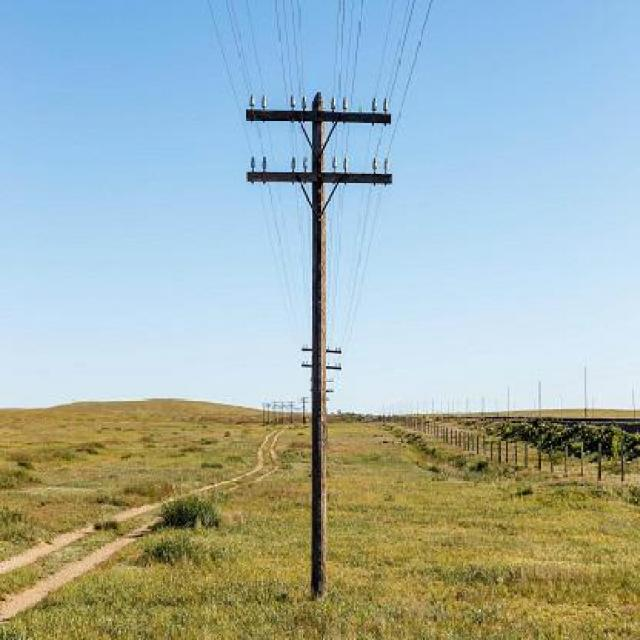pole: (242, 84, 398, 598)
